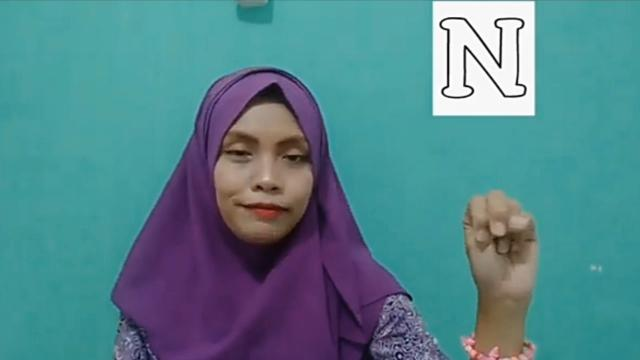N: (459, 187, 541, 302)
